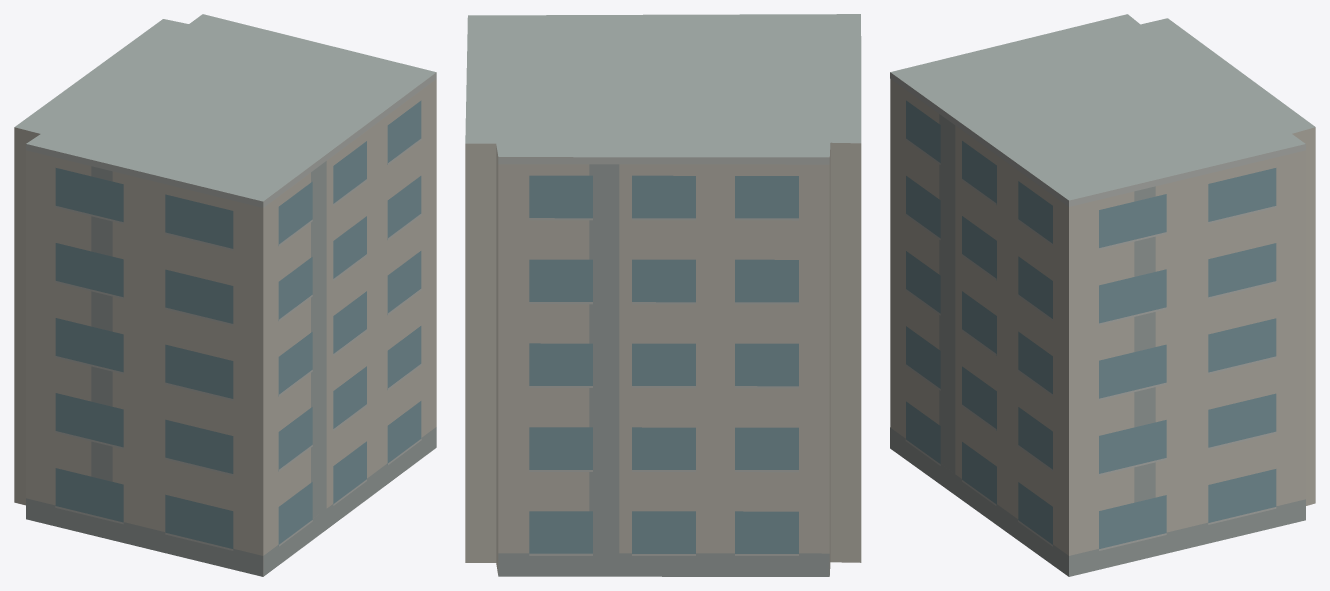
Rendered from survey-upis-32741559.glb.
3 renders of one model, left to right at view 1: azimuth 30°, elevation 25°; view 2: azimuth 150°, elevation 25°; view 3: azimuth 270°, elevation 25°, orthographic. The views are drawn at different scales.
Parts seen in each view (by area): view 1: survey-upis-32741559.tmp; view 2: survey-upis-32741559.tmp; view 3: survey-upis-32741559.tmp.
Boxes of the visible parts, x1=… form: survey-upis-32741559.tmp: x1=14, y1=14, x2=436, y2=576; survey-upis-32741559.tmp: x1=465, y1=14, x2=861, y2=576; survey-upis-32741559.tmp: x1=890, y1=14, x2=1315, y2=576.
Bounding box in the file's own units: 15.22 × 14.3 × 14.67.
